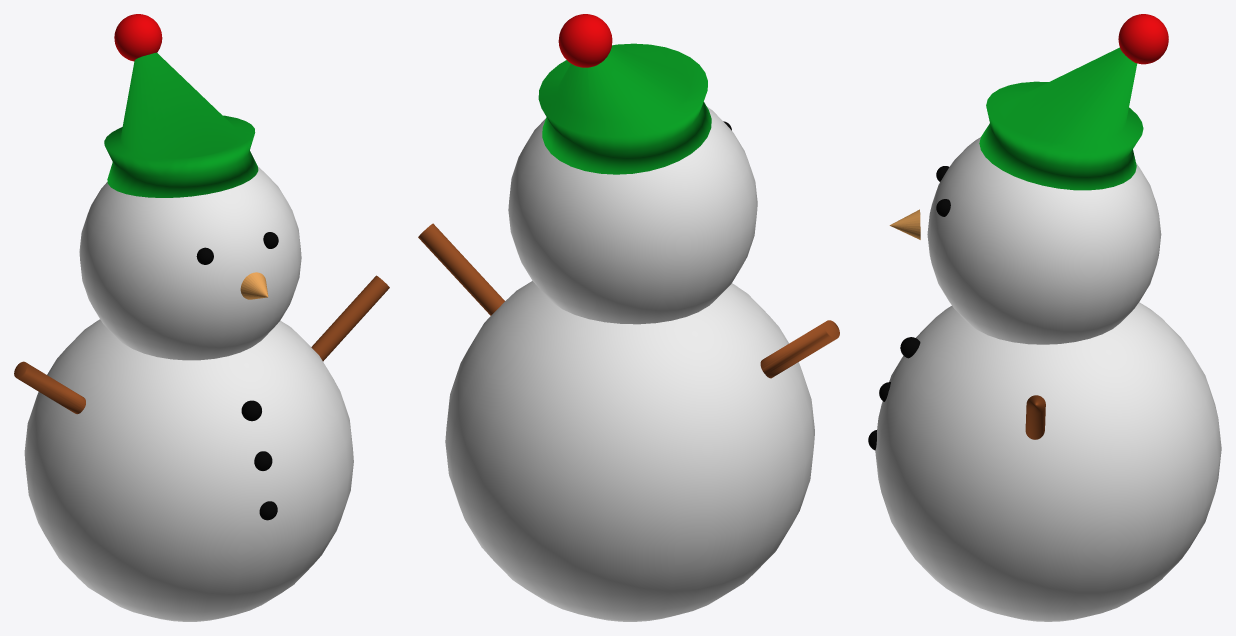
The model's file is 雪だるま.glb.
3 renders of one model, left to right at view 1: azimuth 30°, elevation 25°; view 2: azimuth 150°, elevation 25°; view 3: azimuth 270°, elevation 25°, orthographic. The views are drawn at different scales.
Parts seen in each view (by area): view 1: 球, 球.001, 円柱.002, 円柱, 球.006, 円錐; view 2: 球, 球.001, 円柱.002, 円柱, 球.006; view 3: 球, 球.001, 円柱.002, 球.006, 円柱, 円錐.
Boxes of the visible parts, left/top/right/bottom form: 球: left=24, top=319, right=353, bottom=621; 球.001: left=79, top=167, right=301, bottom=360; 円柱.002: left=104, top=52, right=258, bottom=197; 円柱: left=14, top=275, right=389, bottom=414; 球.006: left=114, top=14, right=162, bottom=61; 円錐: left=240, top=272, right=268, bottom=299; 球: left=445, top=281, right=814, bottom=621; 球.001: left=508, top=107, right=757, bottom=324; 円柱.002: left=538, top=43, right=711, bottom=174; 円柱: left=418, top=223, right=839, bottom=378; 球.006: left=558, top=14, right=612, bottom=67; 球: left=875, top=302, right=1221, bottom=621; 球.001: left=927, top=137, right=1161, bottom=344; 円柱.002: left=979, top=47, right=1143, bottom=190; 球.006: left=1118, top=14, right=1168, bottom=64; 円柱: left=1025, top=395, right=1045, bottom=439; 円錐: left=889, top=209, right=920, bottom=239.
Bounding box in the file's own units: 3.86 × 5.54 × 3.02.
